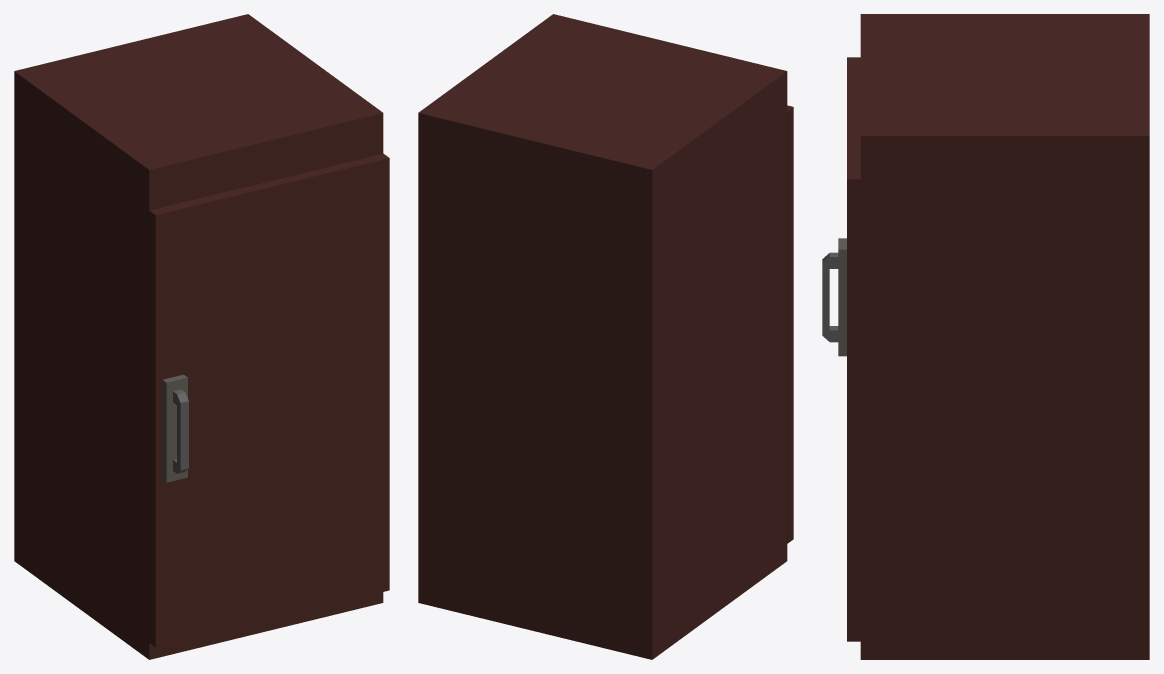
Rendered from dryingcabinets_01_C.gltf.
The picture shows the model from 3 angles, left to right: view 1: azimuth 30°, elevation 25°; view 2: azimuth 150°, elevation 25°; view 3: azimuth 270°, elevation 25°; orthographic projection. The views are drawn at different scales.
Visible parts, largest first — view 1: dryingcabinets_01_C, Doordryingcabinets_01_C; view 2: dryingcabinets_01_C, Doordryingcabinets_01_C; view 3: dryingcabinets_01_C, Doordryingcabinets_01_C.
Part boxes in pixels (bbox=[...]): dryingcabinets_01_C: bbox=[14, 14, 383, 659]; Doordryingcabinets_01_C: bbox=[149, 153, 389, 647]; dryingcabinets_01_C: bbox=[418, 14, 787, 659]; Doordryingcabinets_01_C: bbox=[787, 105, 793, 543]; dryingcabinets_01_C: bbox=[860, 14, 1149, 659]; Doordryingcabinets_01_C: bbox=[822, 57, 860, 641].
Bounding box in the file's own units: 1 × 2 × 1.13.
1 material, 1 textured.
